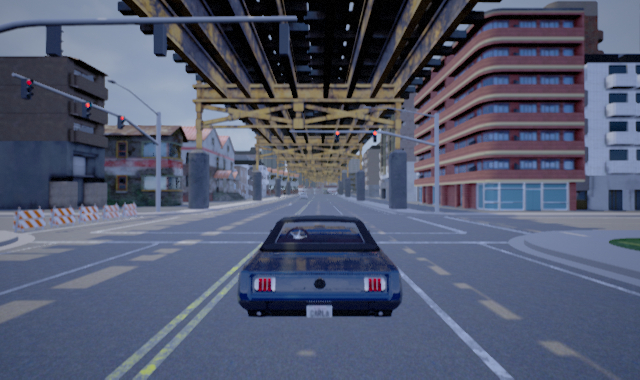traffic_light: (21, 76, 35, 101), (82, 101, 93, 118), (333, 130, 341, 144), (118, 116, 125, 130), (372, 131, 378, 143)
vehicle: (238, 214, 400, 318)
